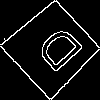D: (26, 23, 86, 82)
